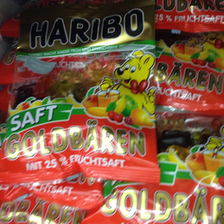candy: (1, 6, 157, 182), (82, 132, 223, 224)
